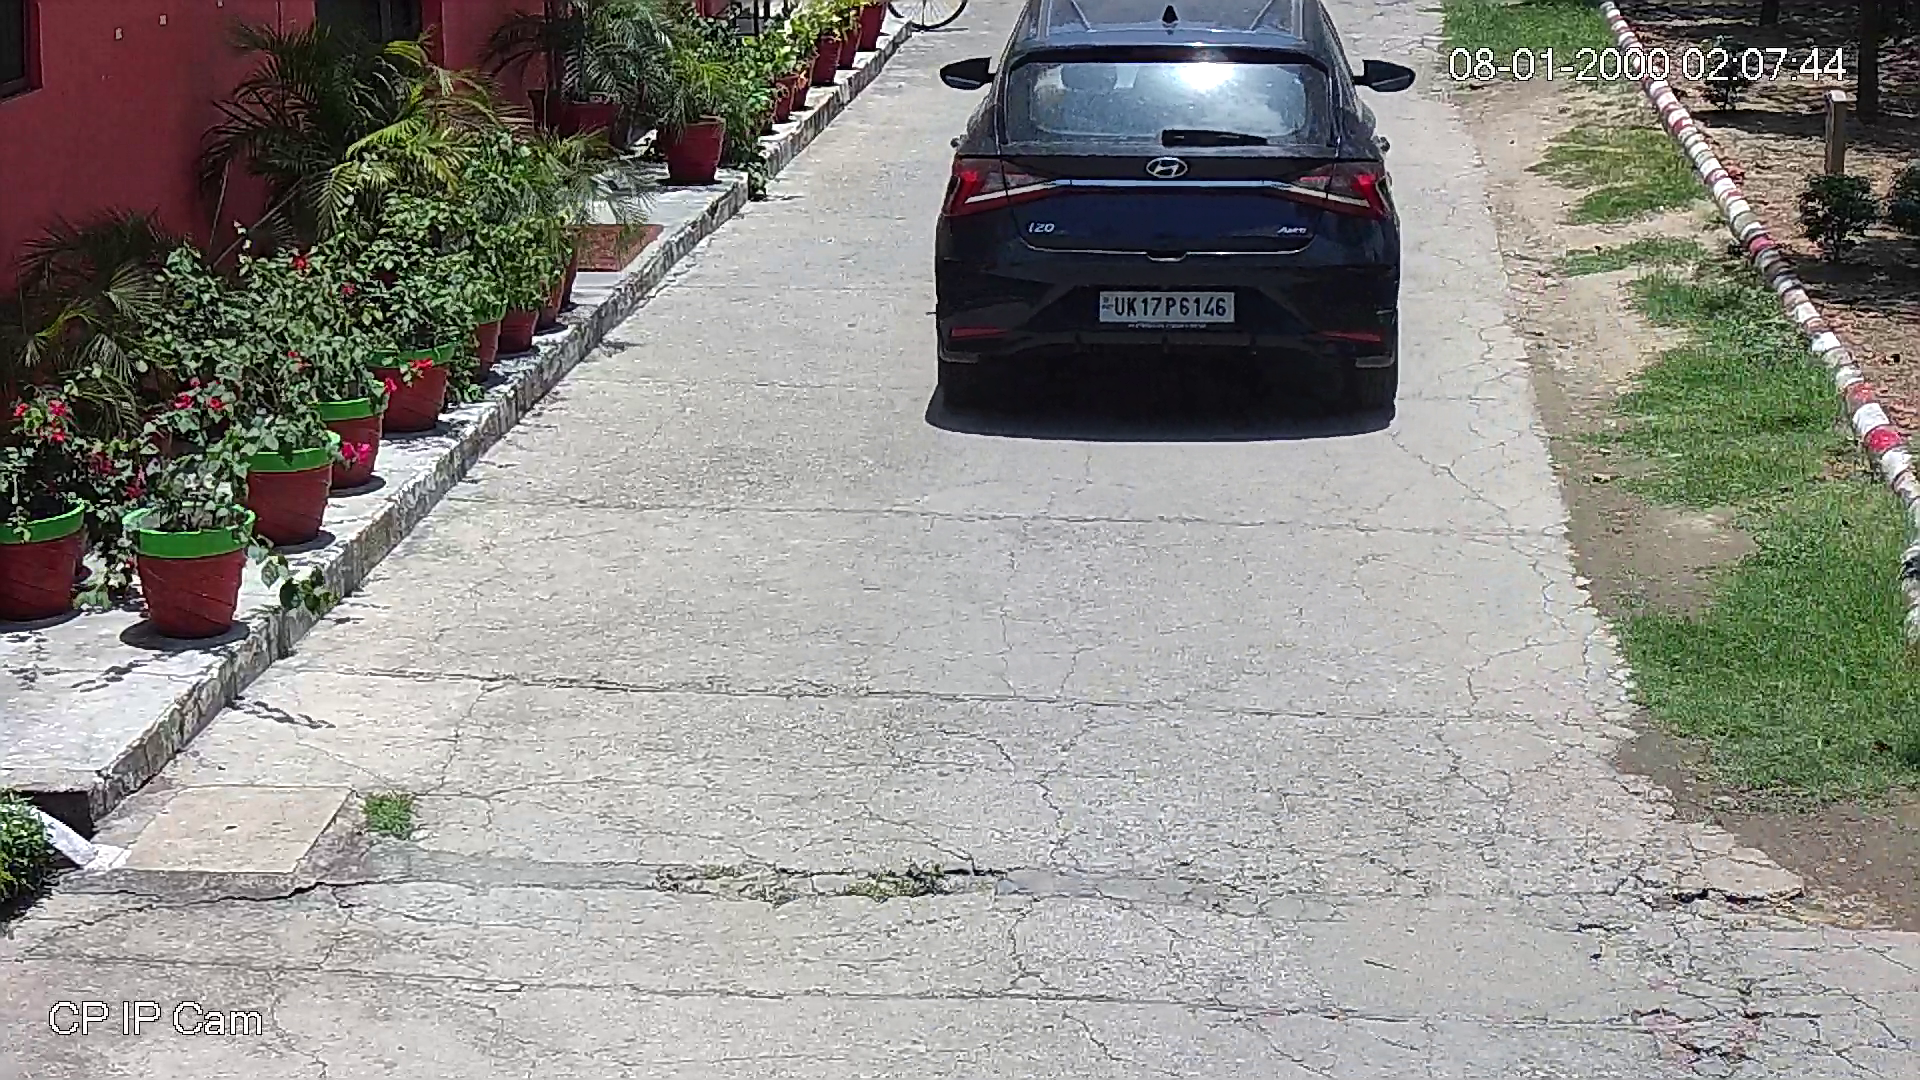plate: (1099, 288, 1234, 322)
